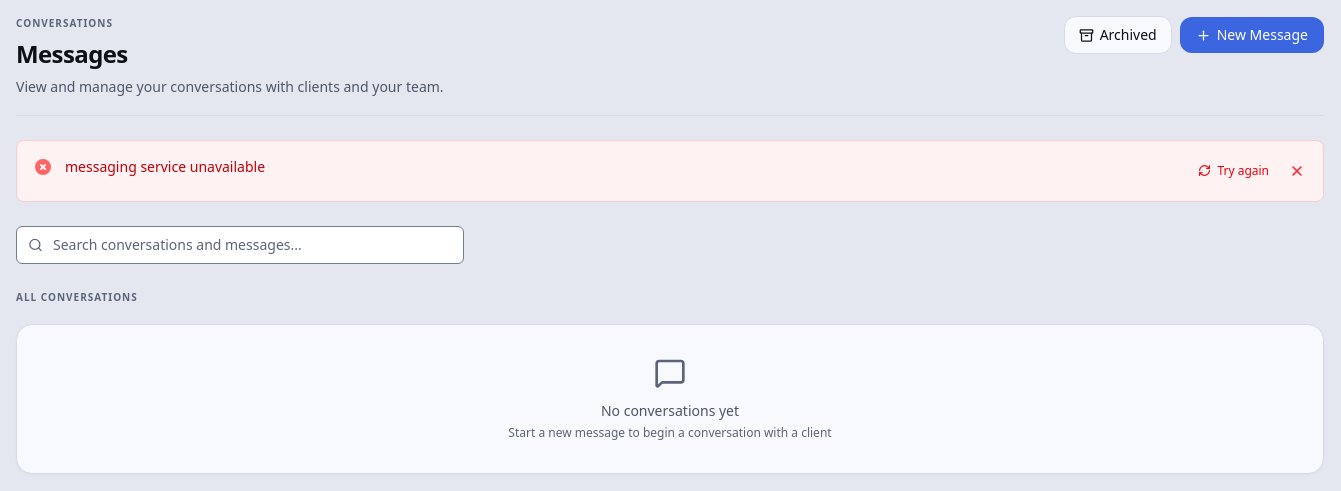
Test case: an API failure, with retry › recovers the real list once the retry succeeds
Click the button "Try again" at (1234, 171), box [1190,157,1277,185]
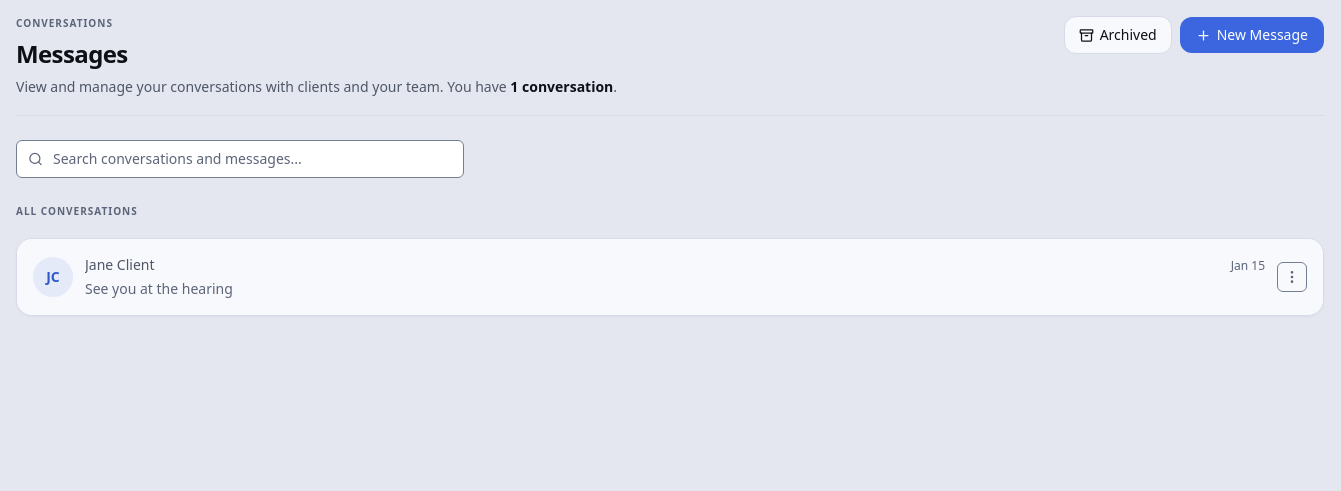
Expected: the message "messaging service unavailable Try again" is gone
Expected: the heading "Jane Client" is shown, [85,255,154,274]
